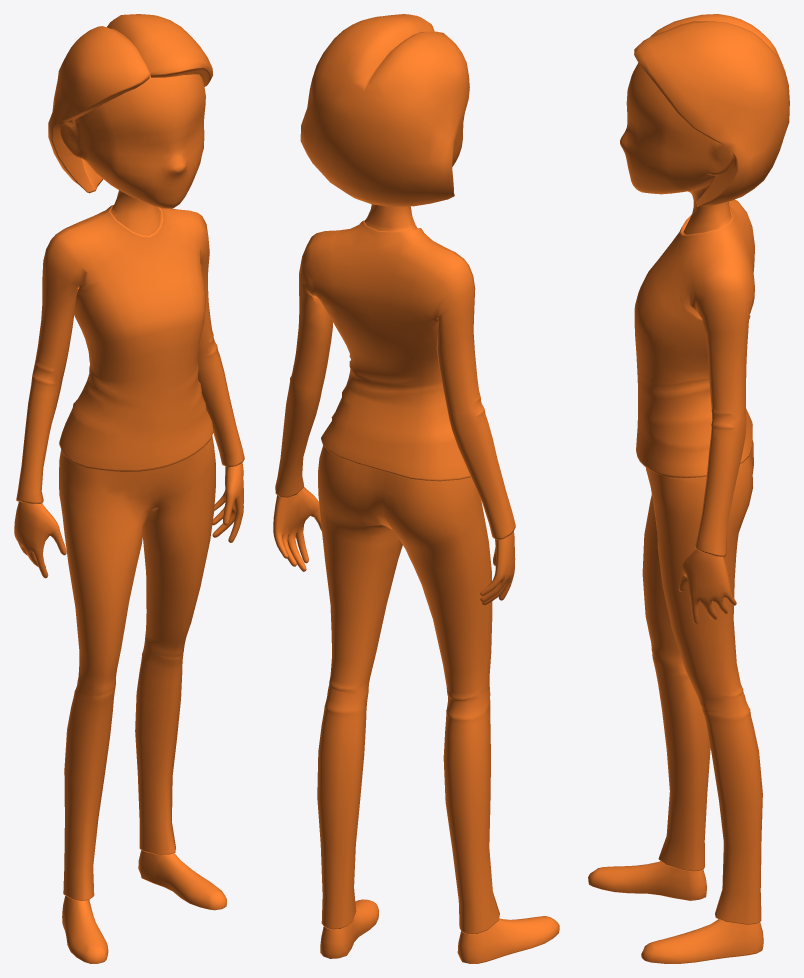
3 renders of one model, left to right at view 1: azimuth 30°, elevation 25°; view 2: azimuth 150°, elevation 25°; view 3: azimuth 270°, elevation 25°, orthographic. The views are drawn at different scales.
Visible parts, largest first — view 1: mesh_id27; view 2: mesh_id27; view 3: mesh_id27.
Boxes of the visible parts, box(x1,y1,x2,y2) form: mesh_id27: box(14, 14, 244, 963); mesh_id27: box(273, 14, 559, 963); mesh_id27: box(588, 14, 789, 963).
Size of the model in its own units: 0.1341 by 0.502 by 0.101.
1 material, 1 textured.
